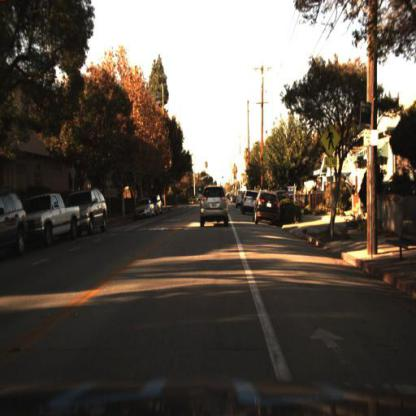car: (21, 190, 80, 247), (27, 195, 84, 244), (1, 186, 30, 257), (70, 186, 111, 235), (68, 189, 109, 229), (199, 182, 230, 230), (252, 189, 281, 229), (240, 186, 261, 217), (131, 194, 153, 223), (136, 196, 154, 222), (242, 191, 260, 216), (151, 190, 165, 219)
